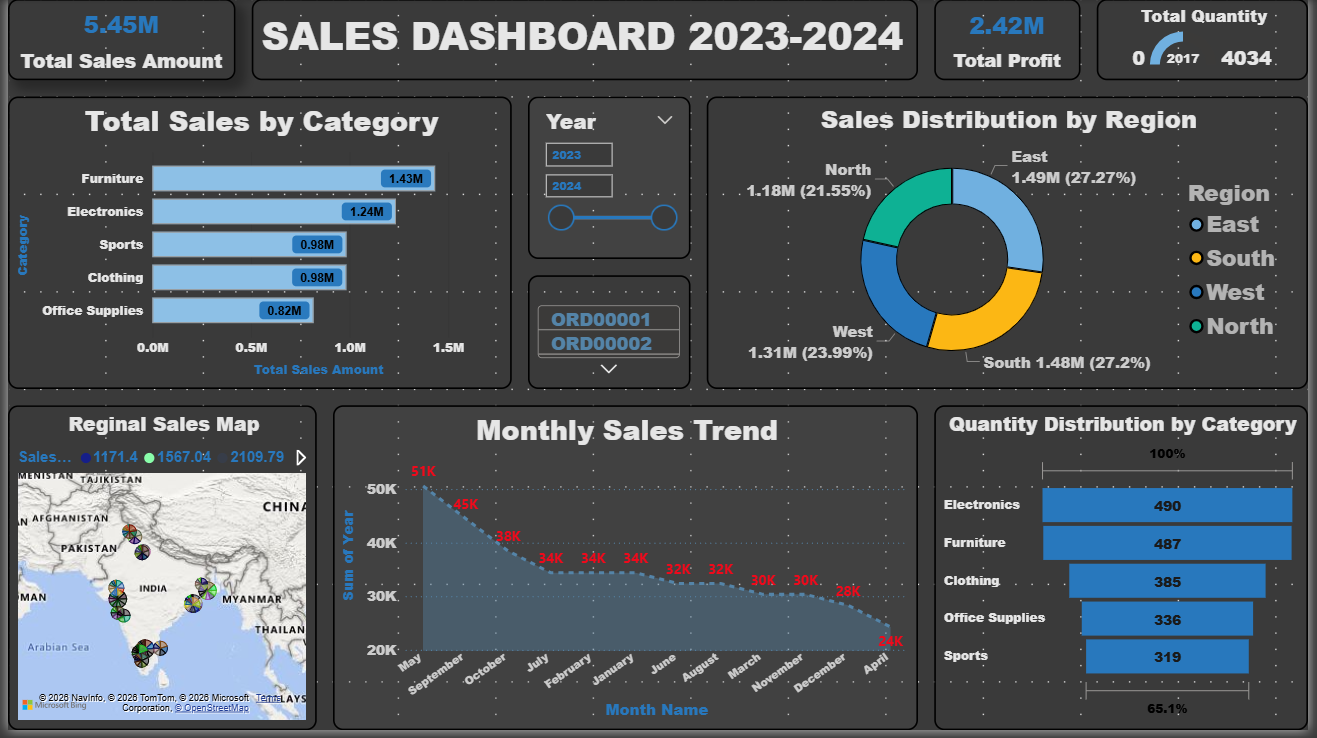

The page's visual inventory and layout, read from the dashboard file:
{"tool":"powerbi","page":{"name":"SALES_DASHBOARD_2023-2024","canvas":[1280,720],"ordinal":0},"visuals":[{"type":"clusteredBarChart","title":"Total Sales by Category","fields":{"Category":["Sales Data.Category"],"Y":["Sum(Sales Data.Sales Amount)"]},"box":[0,96,496,288],"z":0},{"type":"donutChart","title":"Sales Distribution by Region","fields":{"Category":["Sales Data.Region"],"Y":["Sum(Sales Data.Sales Amount)"]},"box":[688,96,592,288],"z":1000},{"type":"card","fields":{"Values":["Sum(Sales Data.Sales Amount)"]},"box":[0,0,224,80],"z":2000},{"type":"card","fields":{"Values":["Sum(Sales Data.Profit)"]},"box":[912,0,144,80],"z":3000},{"type":"textbox","box":[240,0,656,80],"z":4000},{"type":"slicer","fields":{"Values":["Sales Data.Year"]},"box":[512,96,160,160],"z":5000},{"type":"lineChart","title":"Monthly Sales Trend","fields":{"Category":["Sales Data.Month Name"],"Y":["Sum(Sales Data.Year)"]},"box":[320,400,576,320],"z":6000},{"type":"cardVisual","title":"Order Id","fields":{"Rows":["Sales Data.Order ID"]},"box":[512,272,160,112],"z":7000},{"type":"gauge","fields":{"Y":["Sum(Sales Data.Quantity)"]},"box":[1072,0,208,80],"z":8000},{"type":"funnel","title":"Quantity Distribution by Category","fields":{"Category":["Sales Data.Category"],"Y":["Sum(Sales Data.Quantity)"]},"box":[912,400,368,320],"z":9000},{"type":"map","title":"Reginal Sales Map","fields":{"Category":["Sales Data.City"],"Size":["Sum(Sales Data.Profit)"],"Series":["Sales Data.Sales Amount"]},"box":[0,400,304,320],"z":10000}]}

Visuals, with their boxes in screenshot pixels (x1, y1, x2, y2), scaled from the page's 1280x720 canvas onto the 1317x738 screenshot:
"Total Sales by Category" clusteredBarChart: box(0, 98, 510, 394)
"Sales Distribution by Region" donutChart: box(708, 98, 1316, 394)
card - Sum(Sales Data.Sales Amount): box(0, 0, 230, 82)
card - Sum(Sales Data.Profit): box(938, 0, 1087, 82)
textbox: box(247, 0, 922, 82)
slicer - Sales Data.Year: box(527, 98, 691, 262)
"Monthly Sales Trend" lineChart: box(329, 410, 922, 737)
"Order Id" cardVisual: box(527, 279, 691, 394)
gauge - Sum(Sales Data.Quantity): box(1103, 0, 1316, 82)
"Quantity Distribution by Category" funnel: box(938, 410, 1316, 737)
"Reginal Sales Map" map: box(0, 410, 313, 737)
